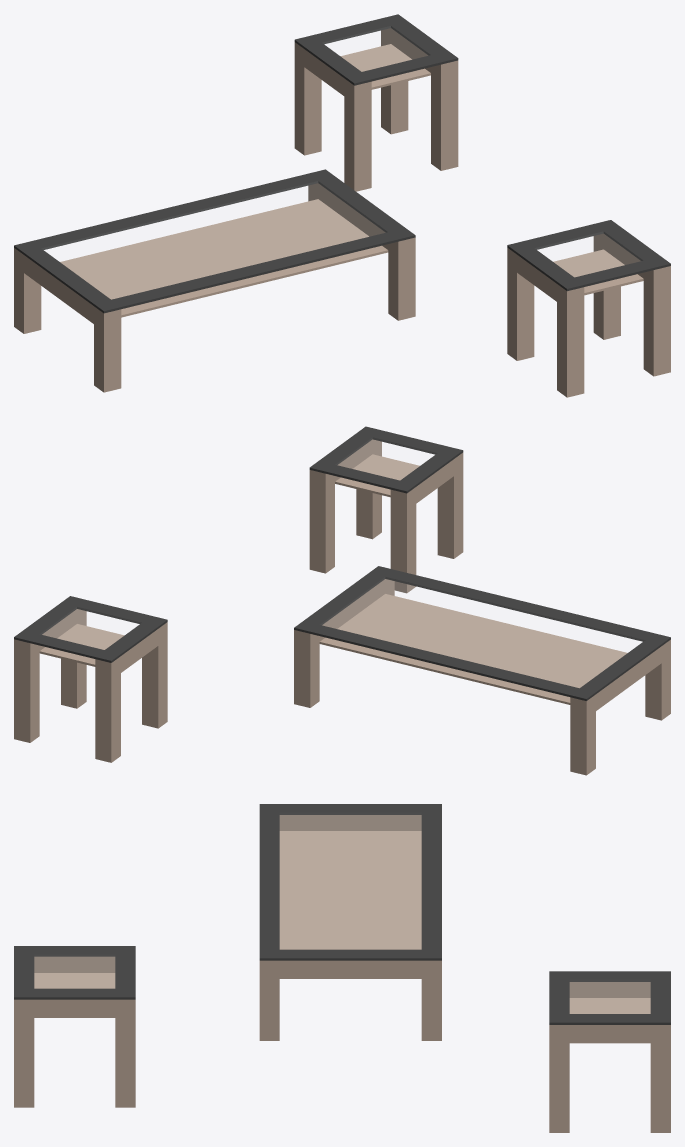
Rendered from merge_meshes_issue_scene_minimized.glb.
3 renders of one model, top to bottom at view 1: azimuth 30°, elevation 25°; view 2: azimuth 150°, elevation 25°; view 3: azimuth 270°, elevation 25°, orthographic. The views are drawn at different scales.
Parts seen in each view (by area): view 1: representation-6004_0_instance_0, representation-6003_0_instance_1, representation-6003_0_instance_0, representation-6004_2_instance_0, representation-6003_2_instance_0, representation-6003_2_instance_1; view 2: representation-6004_0_instance_0, representation-6003_0_instance_0, representation-6003_0_instance_1, representation-6004_2_instance_0, representation-6003_2_instance_1, representation-6003_2_instance_0; view 3: representation-6004_0_instance_0, representation-6004_2_instance_0, representation-6003_0_instance_1, representation-6003_0_instance_0, representation-6003_2_instance_1, representation-6003_2_instance_0.
Part boxes in pixels (x1,y1,x2,y2): representation-6004_0_instance_0: [14, 183, 415, 392]; representation-6003_0_instance_1: [507, 233, 670, 397]; representation-6003_0_instance_0: [294, 28, 458, 191]; representation-6004_2_instance_0: [14, 169, 415, 313]; representation-6003_2_instance_0: [294, 14, 458, 85]; representation-6003_2_instance_1: [507, 220, 670, 291]; representation-6004_0_instance_0: [294, 579, 670, 775]; representation-6003_0_instance_0: [14, 609, 167, 762]; representation-6003_0_instance_1: [309, 439, 463, 593]; representation-6004_2_instance_0: [294, 566, 670, 700]; representation-6003_2_instance_1: [309, 426, 463, 493]; representation-6003_2_instance_0: [14, 596, 167, 662]; representation-6004_0_instance_0: [259, 815, 441, 1040]; representation-6004_2_instance_0: [259, 804, 441, 960]; representation-6003_0_instance_1: [14, 956, 135, 1107]; representation-6003_0_instance_0: [549, 982, 670, 1132]; representation-6003_2_instance_1: [14, 946, 135, 999]; representation-6003_2_instance_0: [549, 971, 670, 1024].
Size of the model in its own units: 2.92 by 0.61 by 3.29.
